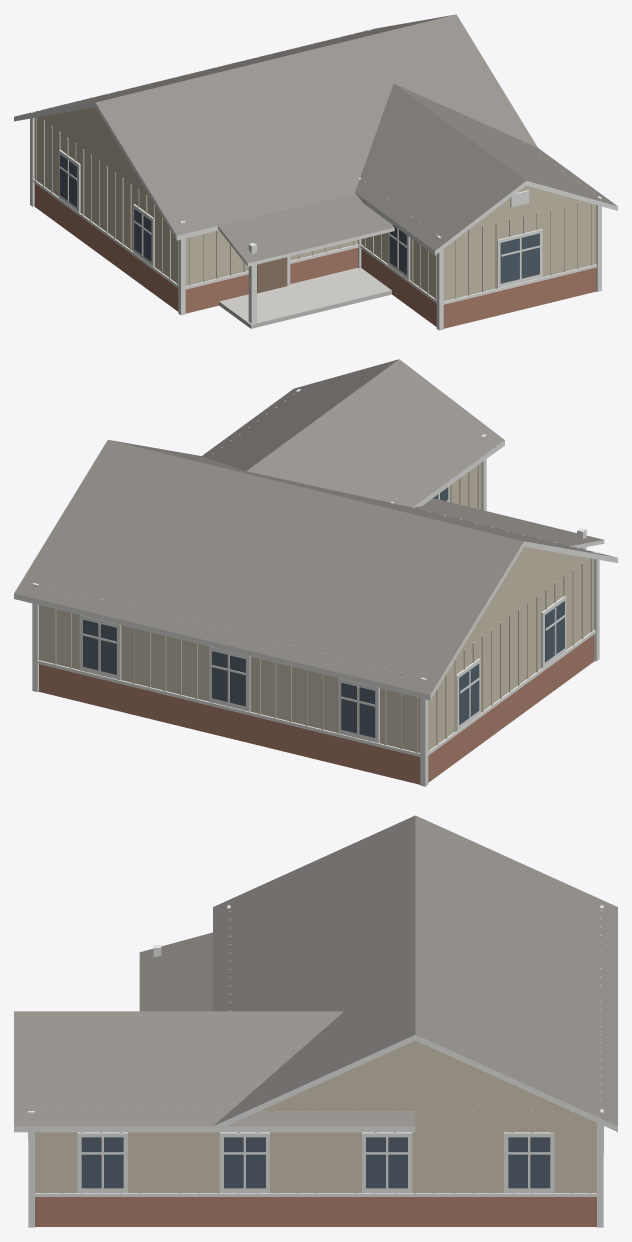
File: kingsburg-craftsman.glb
3 views of the same model, one above another, from view 1: azimuth 30°, elevation 25°; view 2: azimuth 150°, elevation 25°; view 3: azimuth 270°, elevation 25° (orthographic). The views are drawn at different scales.
Visible parts, largest first — view 1: The Kingsburg (craftsman); view 2: The Kingsburg (craftsman); view 3: The Kingsburg (craftsman).
Boxes of the visible parts, box(x1,y1,x2,y2) form: The Kingsburg (craftsman): box(14, 14, 617, 330); The Kingsburg (craftsman): box(14, 359, 617, 786); The Kingsburg (craftsman): box(14, 815, 617, 1227).
Size of the model in its own units: 11.12 by 4.73 by 12.95.
